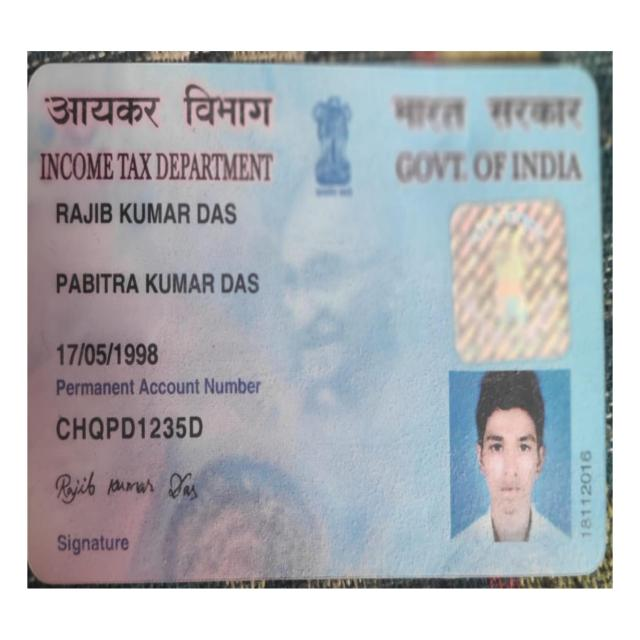pan_card: (34, 70, 603, 587)
